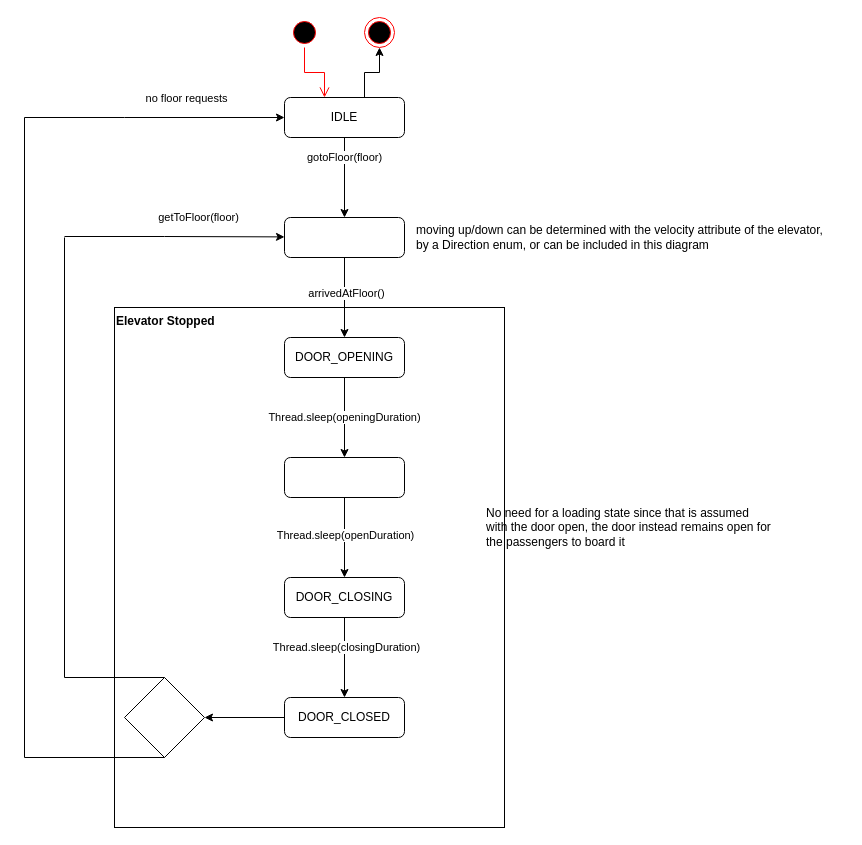
The diagram is 862 pixels wide and 845 high, and some of its shapes have lost their labels. Each missing label, with the centre of its shape:
"DOOR_OPEN" belongs at (x=344, y=477).
"MOVING" belongs at (x=344, y=237).
